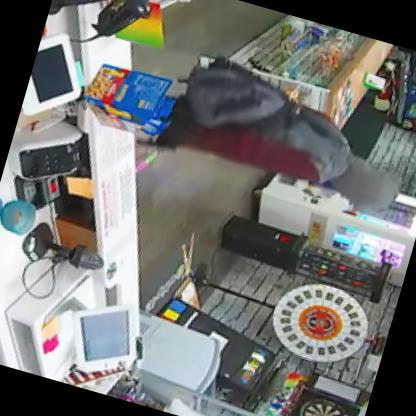Human Body: (90, 63, 406, 220)
